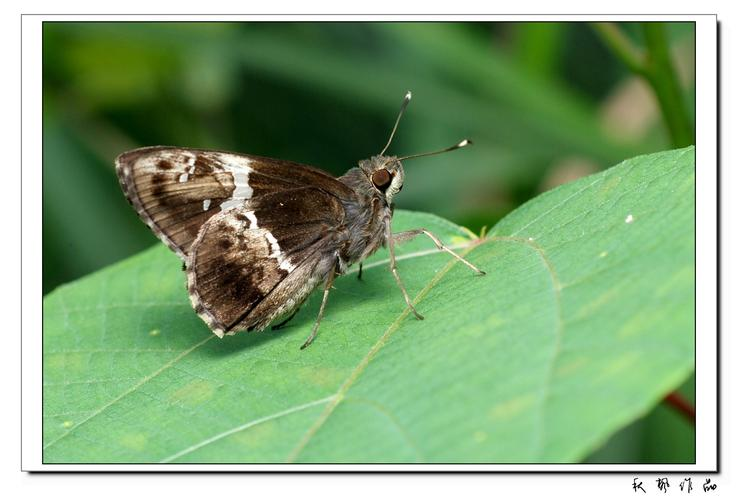Hesperiidae: (108, 81, 493, 354)
